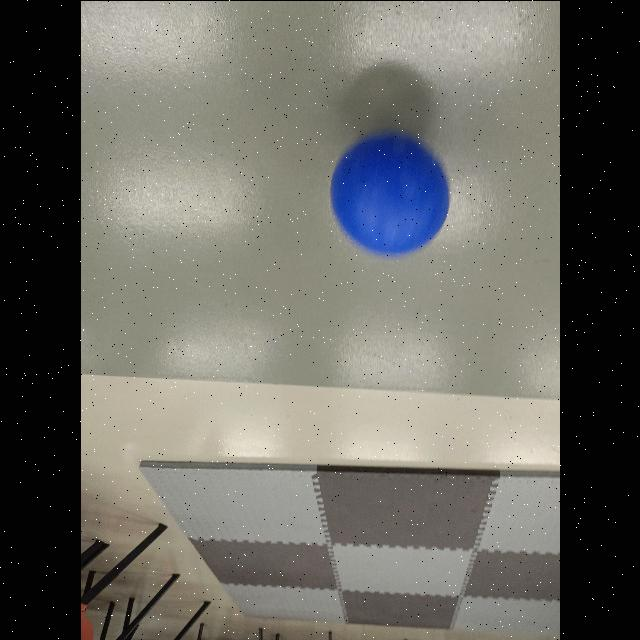B: (324, 132, 456, 260)
